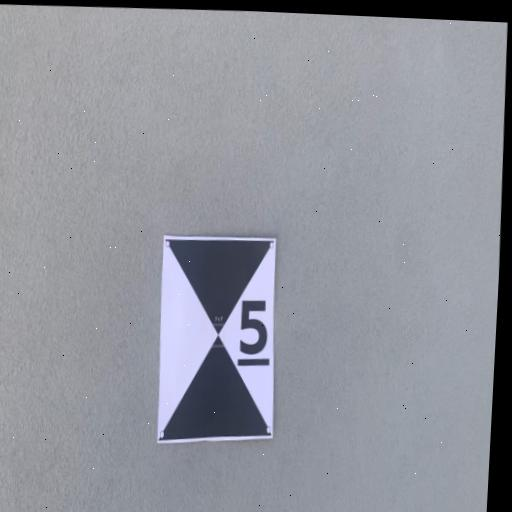target5: (157, 234, 277, 444)
